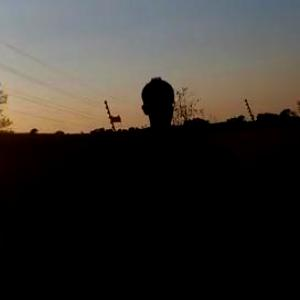follow: (124, 65, 238, 299)
